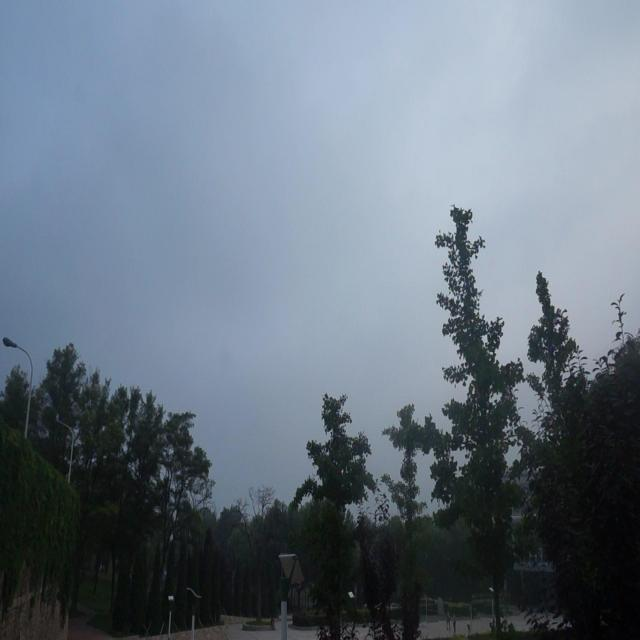UAV: (474, 289, 484, 298)
